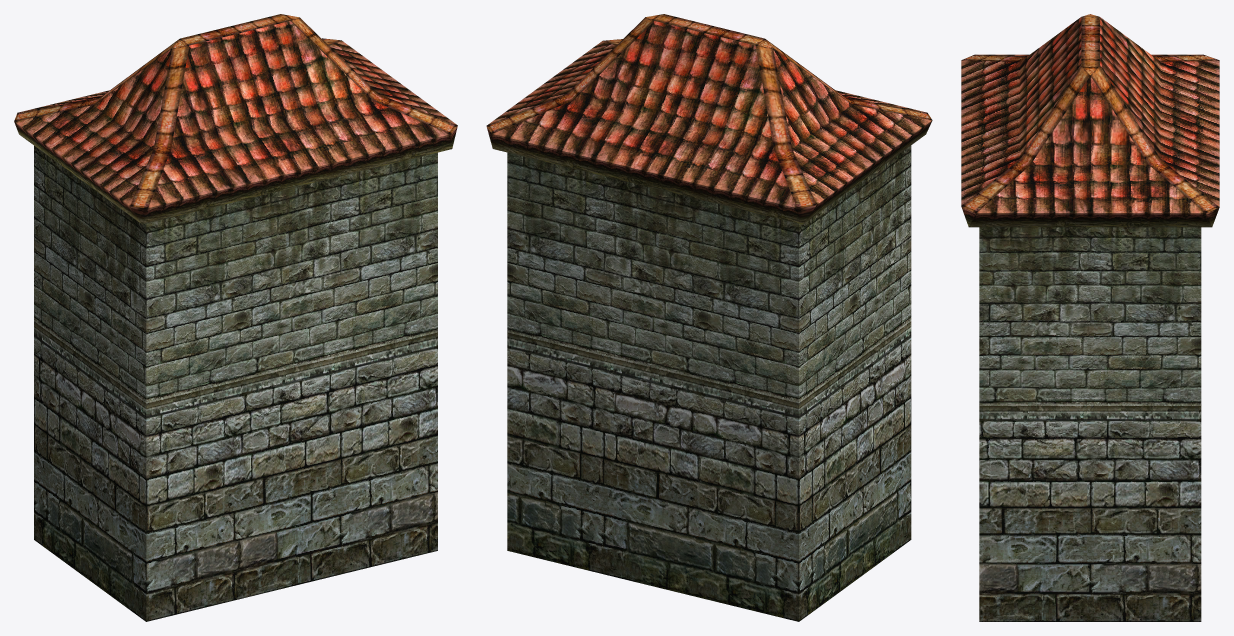
The picture shows the model from 3 angles, left to right: view 1: azimuth 30°, elevation 25°; view 2: azimuth 150°, elevation 25°; view 3: azimuth 270°, elevation 25°; orthographic projection.
Parts seen in each view (by area): view 1: cc03-col; view 2: cc03-col; view 3: cc03-col.
Part boxes in pixels (x1=…): cc03-col: x1=14, y1=14, x2=457, y2=621; cc03-col: x1=486, y1=14, x2=932, y2=621; cc03-col: x1=961, y1=14, x2=1219, y2=621.
Bounding box in the file's own units: 6.76 × 10.13 × 4.65.
Materials: 6 (6 with a texture image).
